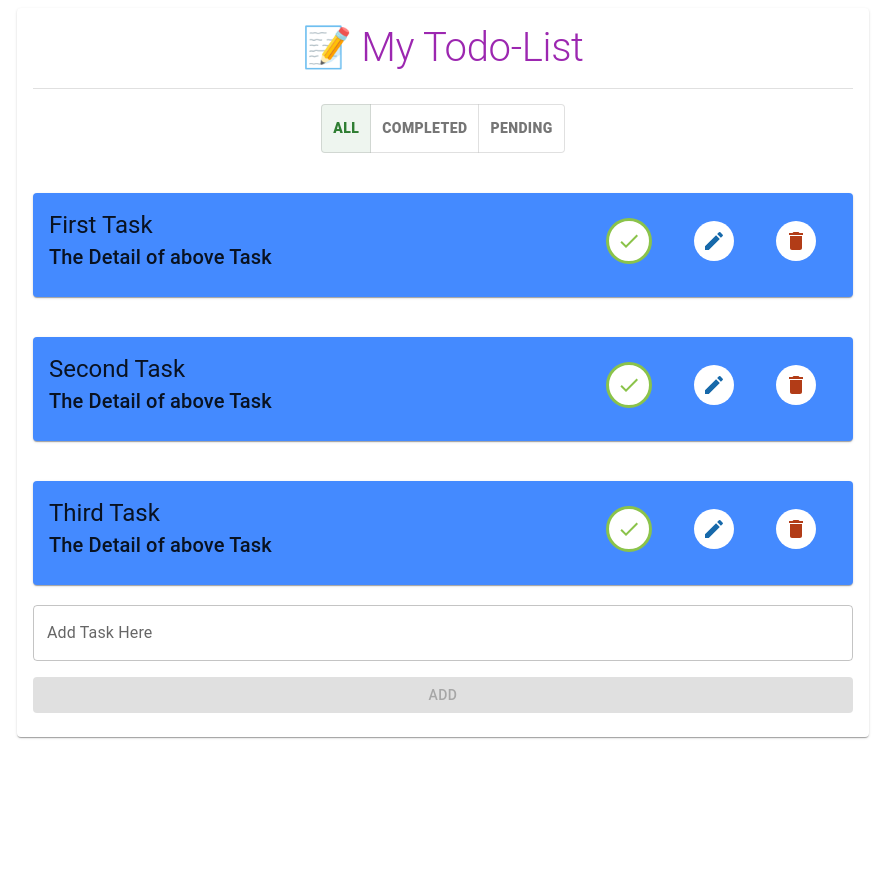
Test: adds a new todo on click
The image size is (887, 882).
Step 1. Type "Buy milk" into the field labelled "Add Task Here" → (443,632), box top-left (33, 604), bottom-right (853, 660)
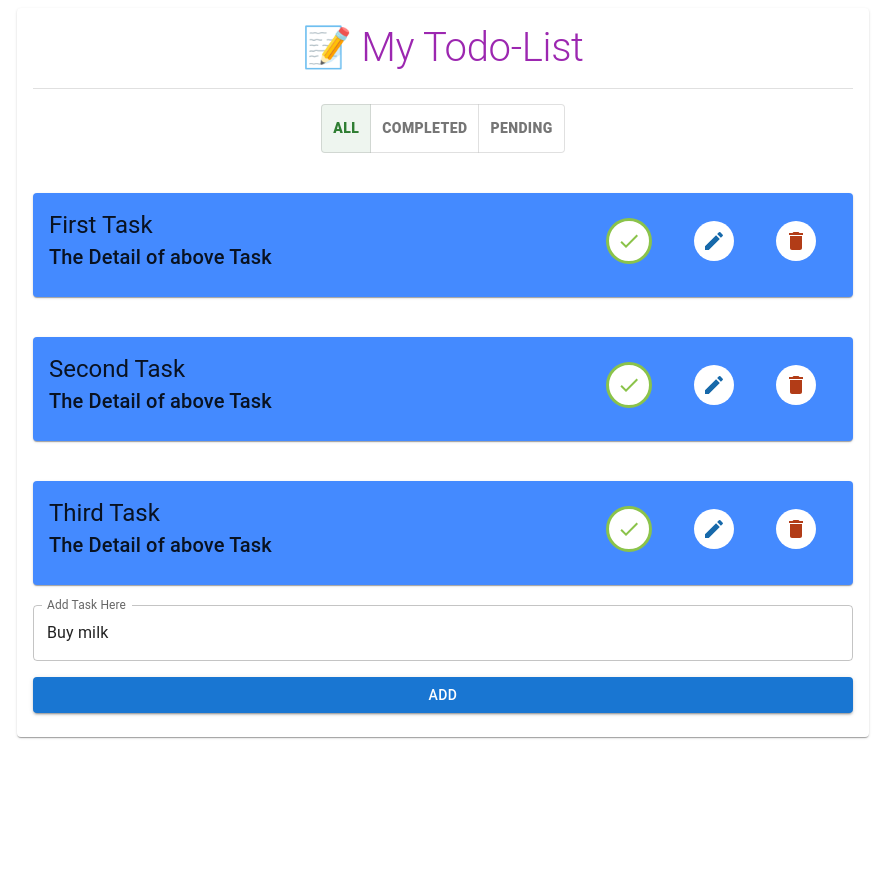
Step 2. Click the button "Add" → (443,695), box top-left (33, 676), bottom-right (853, 713)
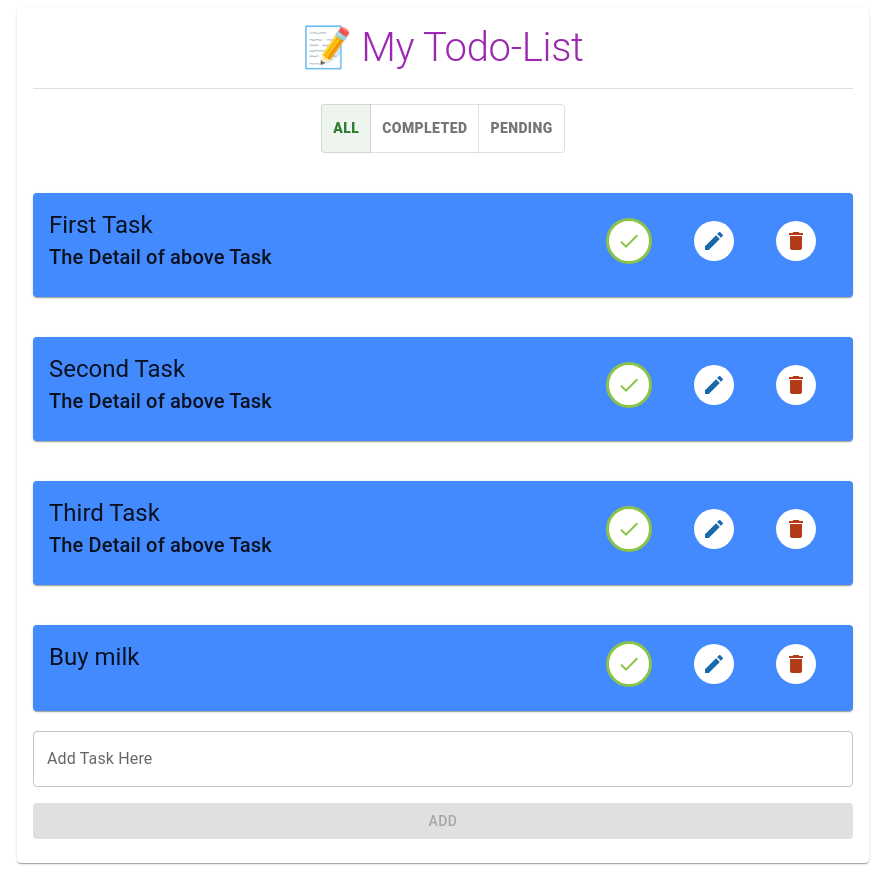
Check: the heading "Buy milk" is shown, box top-left (49, 642), bottom-right (139, 670)
